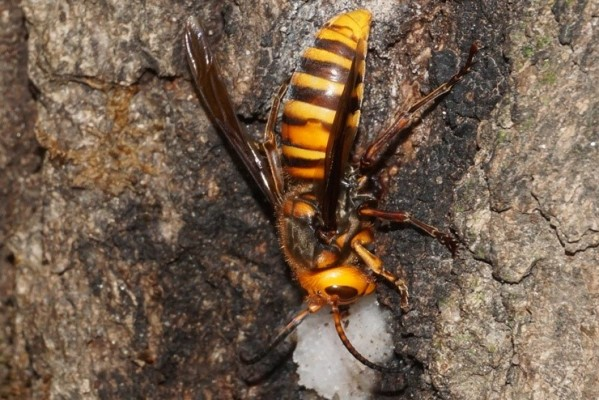asian_giant_hornet: (171, 5, 485, 371)
